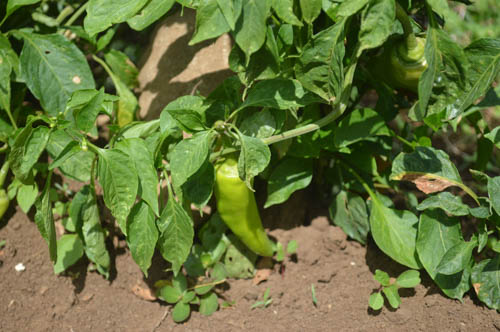ChiliPepper: (214, 161, 274, 263), (390, 45, 432, 94)
